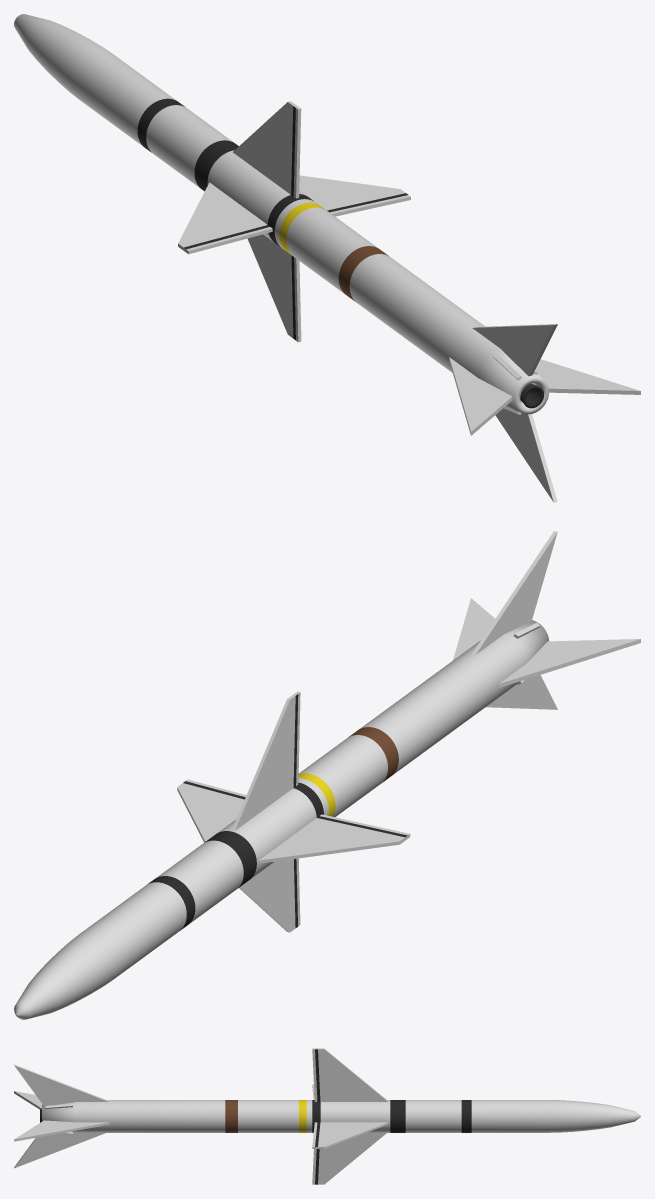
File: Aim-7.fbx
The picture shows the model from 3 angles, top to bottom: view 1: azimuth 30°, elevation 25°; view 2: azimuth 150°, elevation 25°; view 3: azimuth 270°, elevation 25°; orthographic projection. The views are drawn at different scales.
Visible parts, largest first — view 1: Plane.004; view 2: Plane.004; view 3: Plane.004.
Boxes of the visible parts, x1,y1,x2,y2 form: Plane.004: (14,14,640,502); Plane.004: (14,531,640,1019); Plane.004: (14,1048,640,1184).
Bounding box in the file's own units: 103 × 103 × 434.
